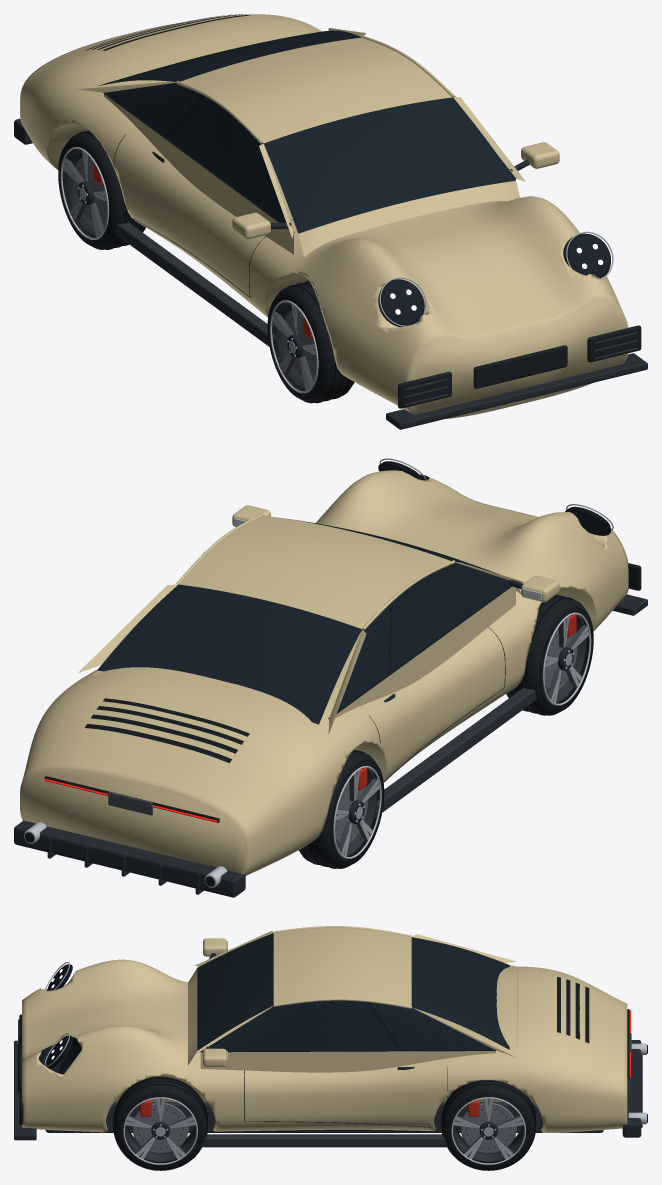
Rendered from porsche911.glb.
3 renders of one model, top to bottom at view 1: azimuth 30°, elevation 25°; view 2: azimuth 150°, elevation 25°; view 3: azimuth 270°, elevation 25°, orthographic. The views are drawn at different scales.
Visible parts, largest first — view 1: Body_SculptedQuadShell, Web_Chassis_Rig_V6_Detail_Glass, Web_Chassis_Rig_porsche911_Exterior_NewPaint, Web_Chassis_Rig_Rubber, Web_Chassis_Rig_Graphite metal, Web_Chassis_Rig_Finish_CarbonWeave, Web_Wheel_FR_Rubber, Web_Wheel_RR_Rubber, Web_Chassis_Rig_Finish_LampPolymer, Web_Chassis_Rig_V6 Rubber, Finish_SplitSpokes_FR, Finish_SplitSpokes_RR (+5 smaller); view 2: Body_SculptedQuadShell, Web_Chassis_Rig_V6_Detail_Glass, Web_Chassis_Rig_porsche911_Exterior_NewPaint, Web_Chassis_Rig_Finish_CarbonWeave, Web_Chassis_Rig_V6 Rubber, Web_Chassis_Rig_Graphite metal, Web_Wheel_FR_Rubber, Web_Wheel_RR_Rubber, Finish_SplitSpokes_FR, Finish_SplitSpokes_RR, Brake rotor.001, Brake rotor (+4 smaller); view 3: Body_SculptedQuadShell, Web_Chassis_Rig_V6_Detail_Glass, Web_Chassis_Rig_porsche911_Exterior_NewPaint, Web_Chassis_Rig_Graphite metal, Web_Wheel_FL_Rubber, Web_Wheel_RL_Rubber, Web_Chassis_Rig_V6 Rubber, Web_Chassis_Rig_Finish_CarbonWeave, Brake rotor.002, Brake rotor.003, Finish_SplitSpokes_FL, Finish_SplitSpokes_RL (+8 smaller).
Boxes of the visible parts, x1,y1,x2,y2 form: Body_SculptedQuadShell: [20, 14, 628, 418]; Web_Chassis_Rig_V6_Detail_Glass: [98, 30, 515, 233]; Web_Chassis_Rig_porsche911_Exterior_NewPaint: [78, 28, 559, 256]; Web_Chassis_Rig_Rubber: [398, 325, 641, 408]; Web_Chassis_Rig_Graphite metal: [115, 222, 637, 405]; Web_Chassis_Rig_Finish_CarbonWeave: [14, 118, 647, 429]; Web_Wheel_FR_Rubber: [267, 282, 354, 403]; Web_Wheel_RR_Rubber: [58, 131, 145, 249]; Web_Chassis_Rig_Finish_LampPolymer: [381, 234, 610, 325]; Web_Chassis_Rig_V6 Rubber: [85, 14, 610, 326]; Finish_SplitSpokes_FR: [272, 304, 316, 390]; Finish_SplitSpokes_RR: [62, 150, 106, 237]; Body_SculptedQuadShell: [20, 470, 628, 875]; Web_Chassis_Rig_V6_Detail_Glass: [97, 518, 510, 724]; Web_Chassis_Rig_porsche911_Exterior_NewPaint: [77, 505, 559, 734]; Web_Chassis_Rig_Finish_CarbonWeave: [14, 594, 647, 897]; Web_Chassis_Rig_V6 Rubber: [44, 462, 610, 822]; Web_Chassis_Rig_Graphite metal: [374, 688, 536, 817]; Web_Wheel_FR_Rubber: [506, 595, 593, 715]; Web_Wheel_RR_Rubber: [298, 750, 384, 868]; Finish_SplitSpokes_FR: [545, 616, 589, 703]; Finish_SplitSpokes_RR: [335, 770, 379, 856]; Brake rotor.001: [544, 628, 577, 690]; Brake rotor: [335, 781, 368, 844]; Body_SculptedQuadShell: [22, 959, 627, 1132]; Web_Chassis_Rig_V6_Detail_Glass: [197, 933, 509, 1050]; Web_Chassis_Rig_porsche911_Exterior_NewPaint: [188, 926, 517, 1072]; Web_Chassis_Rig_Graphite metal: [18, 1019, 603, 1147]; Web_Wheel_FL_Rubber: [114, 1076, 207, 1170]; Web_Wheel_RL_Rubber: [442, 1080, 535, 1170]; Web_Chassis_Rig_V6 Rubber: [48, 964, 629, 1127]; Web_Chassis_Rig_Finish_CarbonWeave: [14, 1040, 642, 1140]; Brake rotor.002: [460, 1103, 516, 1153]; Brake rotor.003: [132, 1103, 188, 1153]; Finish_SplitSpokes_FL: [125, 1098, 195, 1159]; Finish_SplitSpokes_RL: [453, 1098, 523, 1159].
Bounding box in the file's own units: 2.13 × 1.34 × 4.73.
